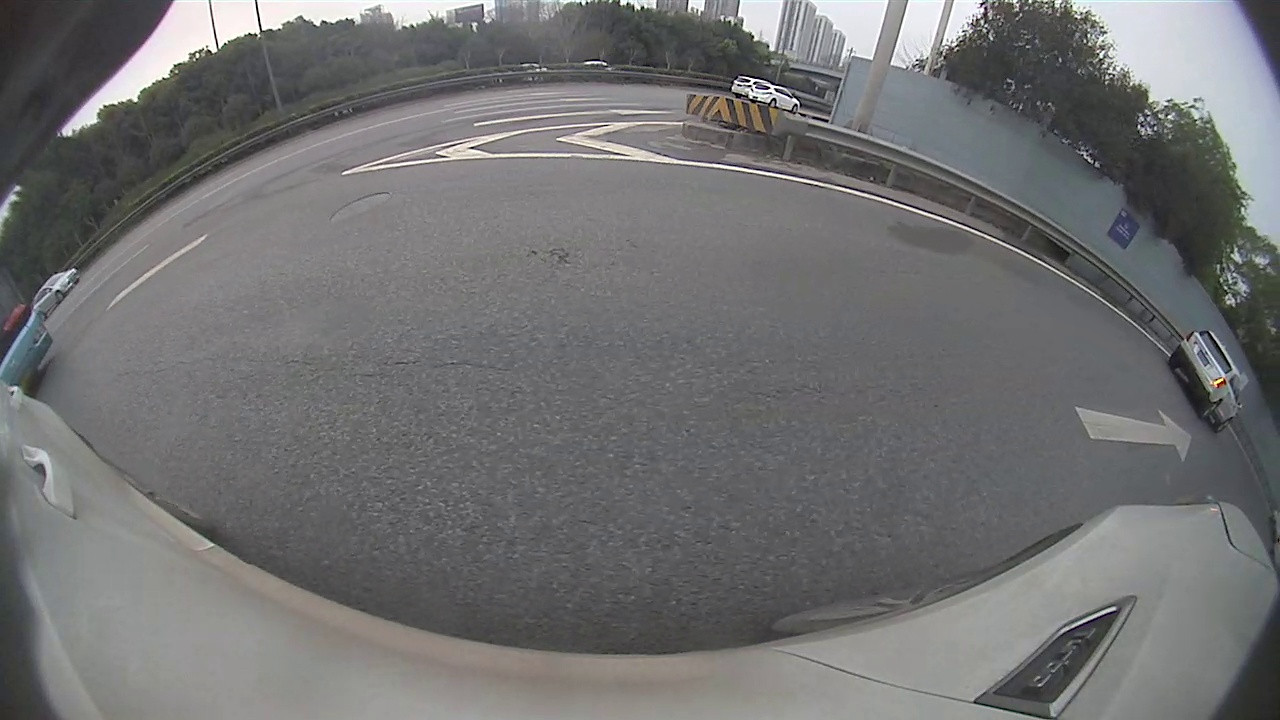bus: (2, 236, 50, 391)
car: (1174, 329, 1246, 429), (32, 268, 78, 313), (750, 83, 803, 110), (730, 77, 763, 97)
front: (1216, 416, 1235, 434), (53, 291, 64, 305), (792, 104, 800, 115)
rear: (1200, 397, 1222, 421), (767, 98, 780, 110)
